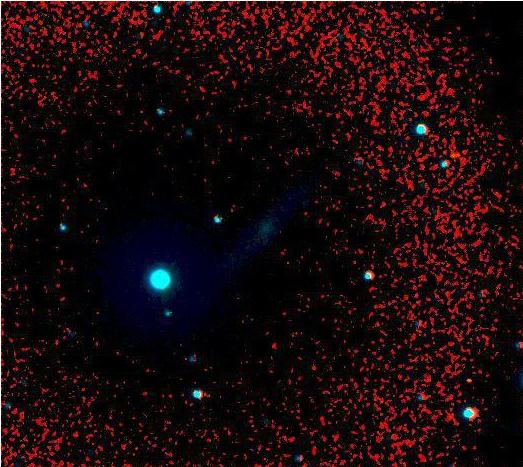star: (452, 366, 482, 396)
